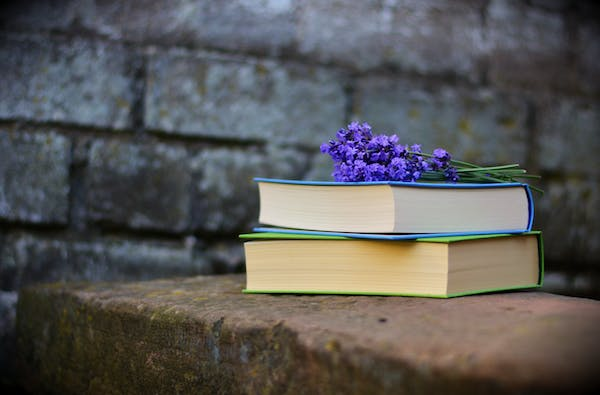book: (234, 232, 546, 299), (245, 174, 537, 237)
